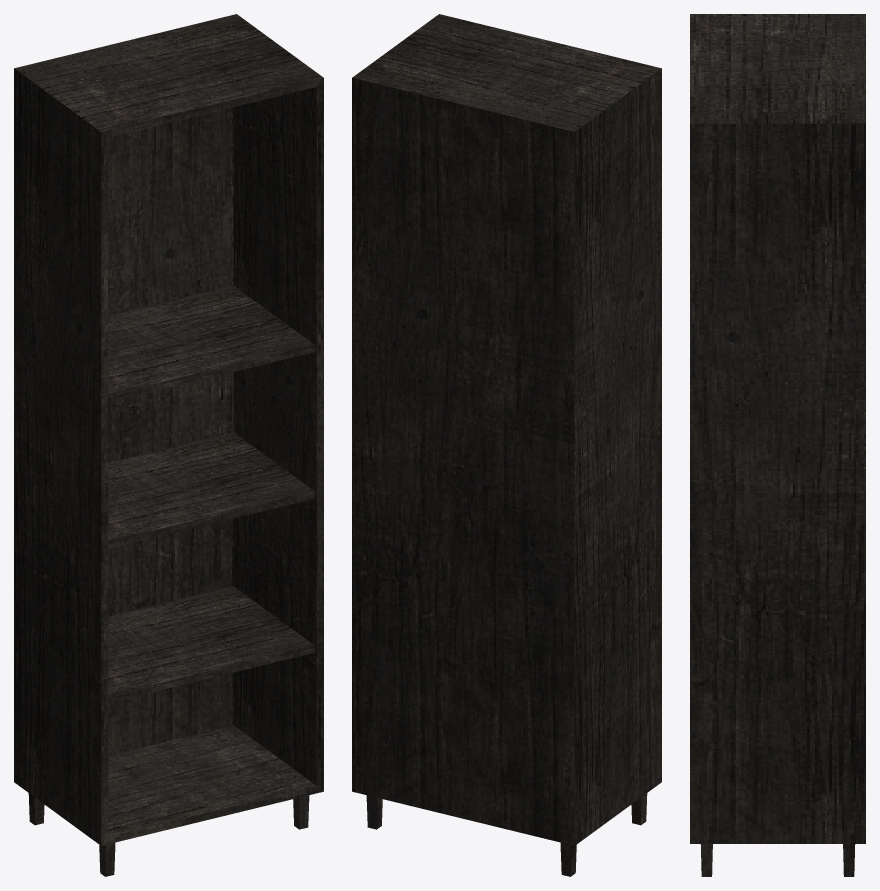
File: shelf_mp_1.glb
3 views of the same model, side by side, from view 1: azimuth 30°, elevation 25°; view 2: azimuth 150°, elevation 25°; view 3: azimuth 270°, elevation 25° (orthographic).
Parts seen in each view (by area): view 1: shelf_mp_1; view 2: shelf_mp_1; view 3: shelf_mp_1.
Part boxes in pixels (x1=…): shelf_mp_1: x1=14, y1=14, x2=323, y2=876; shelf_mp_1: x1=352, y1=14, x2=661, y2=876; shelf_mp_1: x1=690, y1=14, x2=865, y2=876.
Size of the model in its own units: 0.62 by 2 by 0.42.
1 material, 1 textured.
